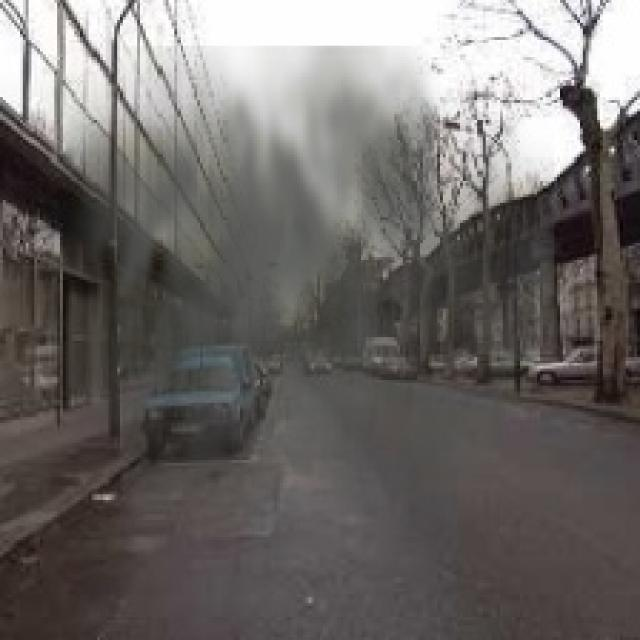Smoke: (34, 46, 554, 568)
